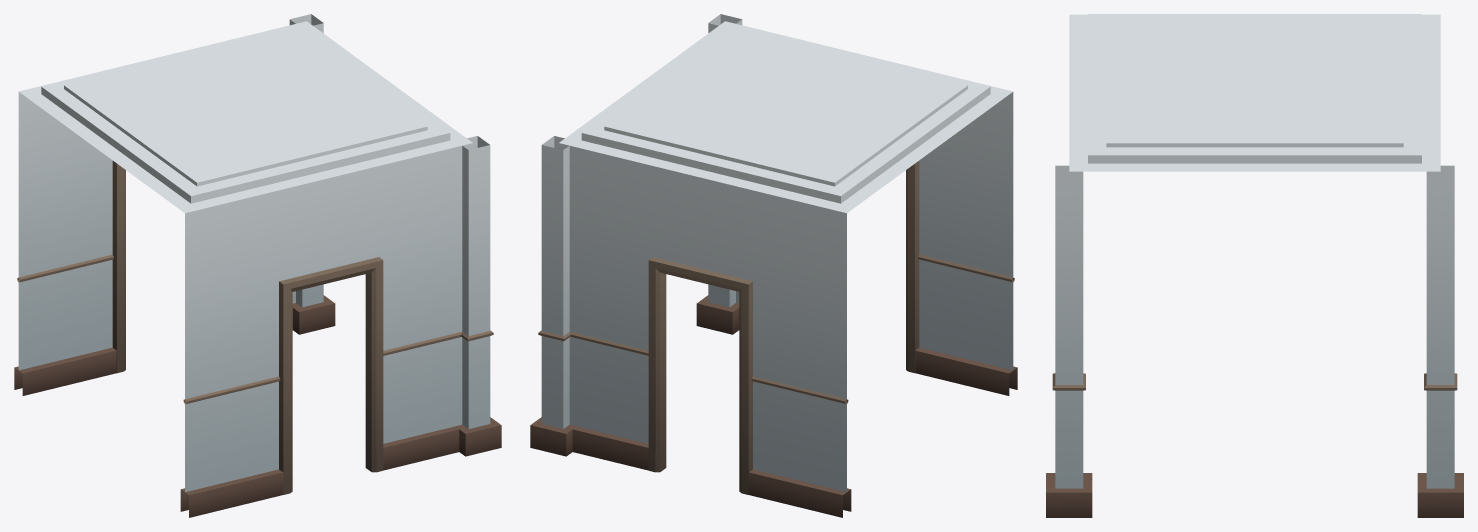
Rendered from Hallway_frame.fbx.
3 renders of one model, left to right at view 1: azimuth 30°, elevation 25°; view 2: azimuth 150°, elevation 25°; view 3: azimuth 270°, elevation 25°, orthographic. The views are drawn at different scales.
Parts seen in each view (by area): view 1: Hallway_frame; view 2: Hallway_frame; view 3: Hallway_frame.
Part boxes in pixels (x1,y1,x2,y2): Hallway_frame: (14,14,501,517); Hallway_frame: (530,14,1017,517); Hallway_frame: (1046,14,1463,517).
Bounding box in the file's own units: 319 × 311 × 338.
